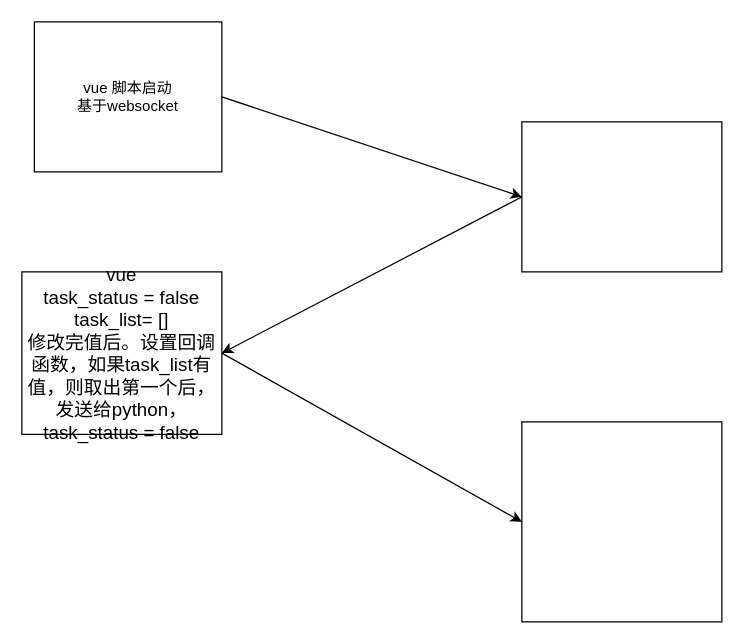
This 744x644 diagram has some shape labels left out. The shapes that lost their labels are listed below. From the top down, each one's box as (x1, y1, x2, y2) in pixels, then its label:
(521, 121, 722, 272): python 启动websocket服务后，发送消息给vue客户端，修改task_status 的值
(521, 421, 722, 622): python 接受到任务，立即执行
